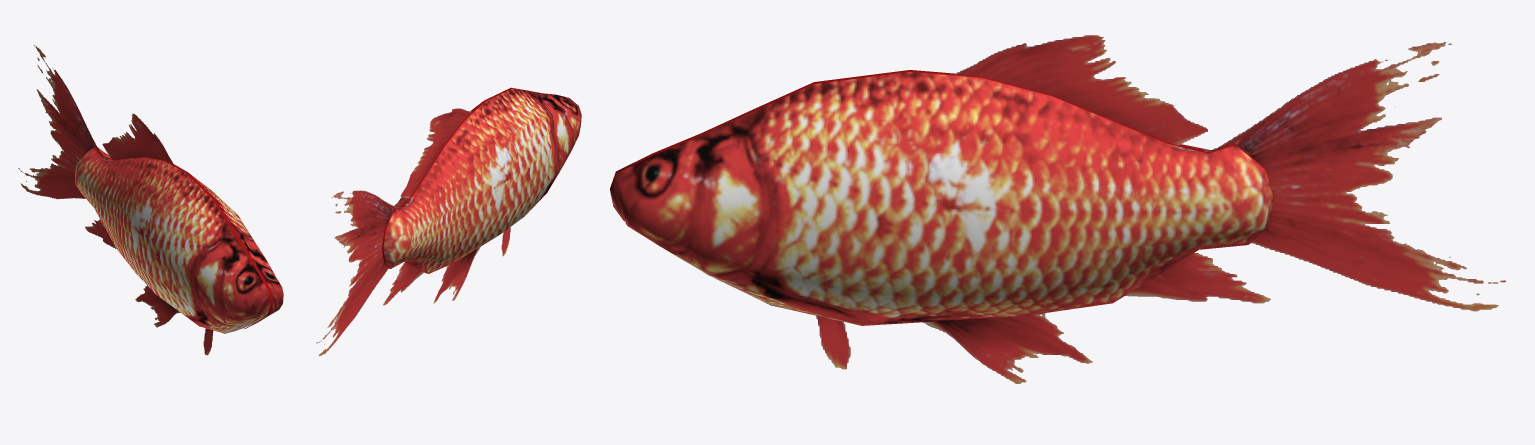
The model's file is phish.fbx.
3 renders of one model, left to right at view 1: azimuth 30°, elevation 25°; view 2: azimuth 150°, elevation 25°; view 3: azimuth 270°, elevation 25°, orthographic. The views are drawn at different scales.
Parts seen in each view (by area): view 1: feesh; view 2: feesh; view 3: feesh.
Part boxes in pixels (box(x1,y1,x2,y2)): feesh: box(18, 45, 283, 355); feesh: box(316, 87, 581, 356); feesh: box(610, 35, 1506, 383).
Bounding box in the file's own units: 7.69 × 23.61 × 46.73.
